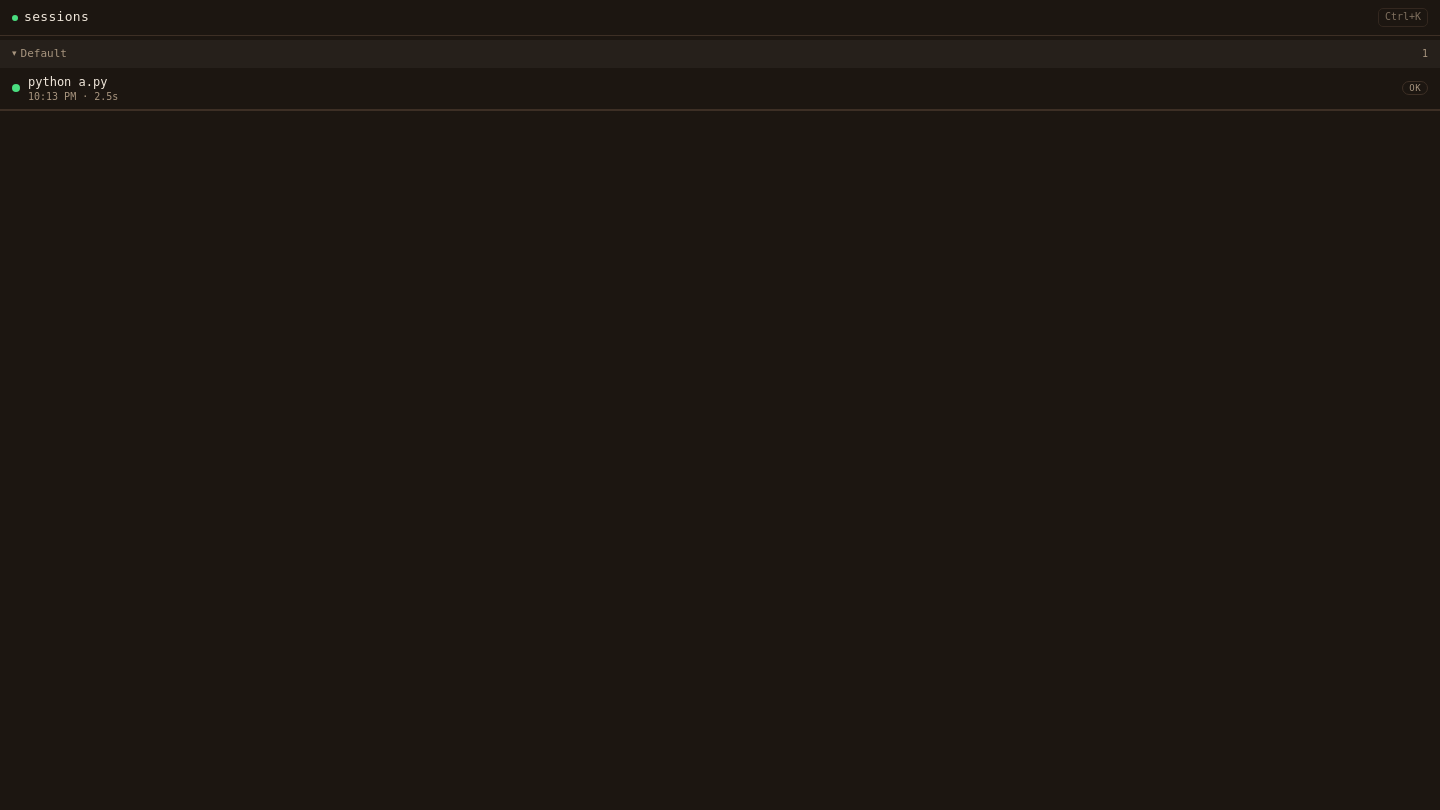
Test: RunSidebar run naming (label ?? command) › pressing Delete on a focused run row opens the same confirm flow
Press Delete in the button "python a.py 10:13 PM · 2.5s ok", box [0, 68, 1439, 110]
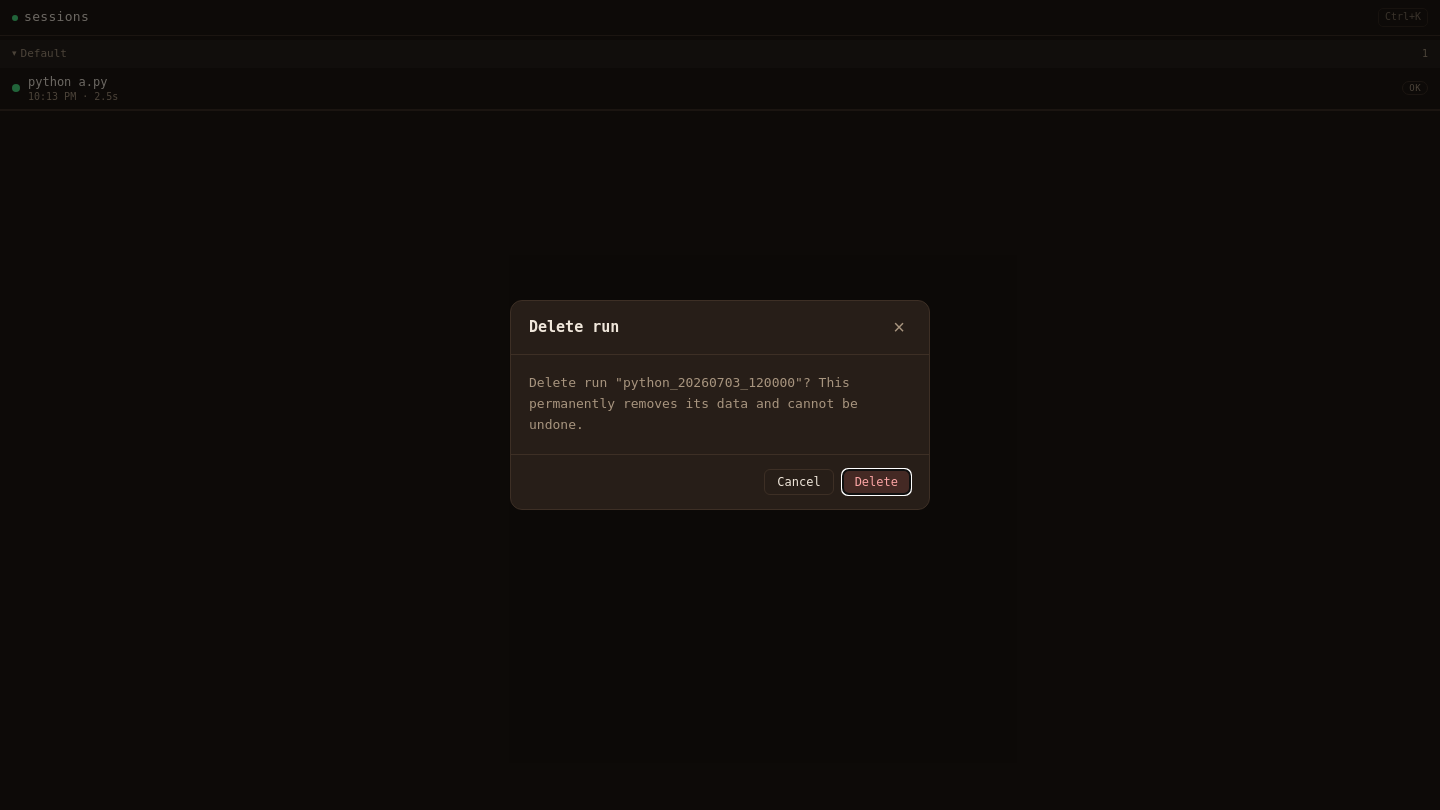
Expected: the heading "Delete run" is shown, [529, 317, 619, 339]
Click the button "Cancel" at [799, 482], box [764, 469, 834, 495]
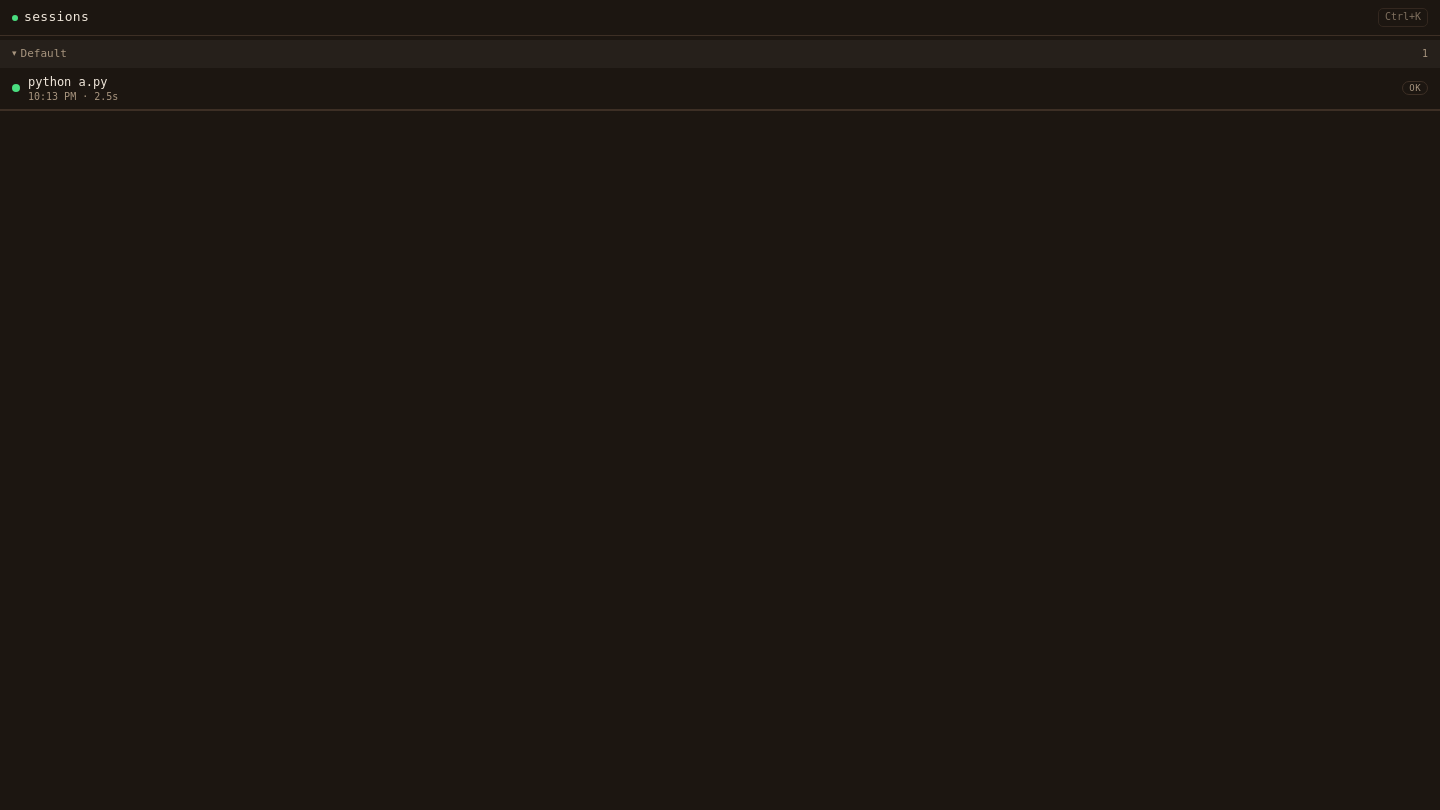
Expected: the heading "Delete run" is gone
